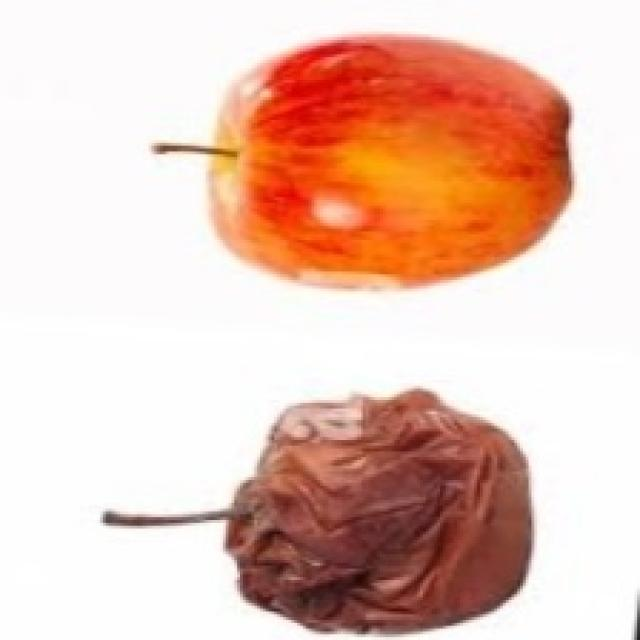rotten_apple: (237, 398, 528, 630)
